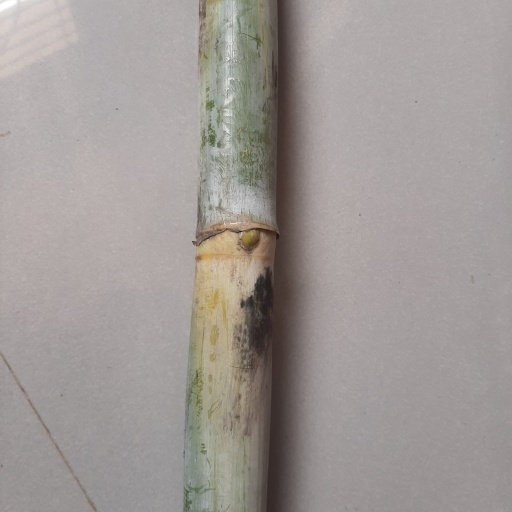Bud: (239, 228, 260, 253)
